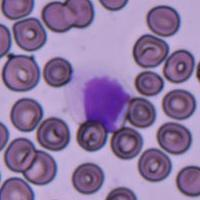L: (65, 71, 135, 133)
